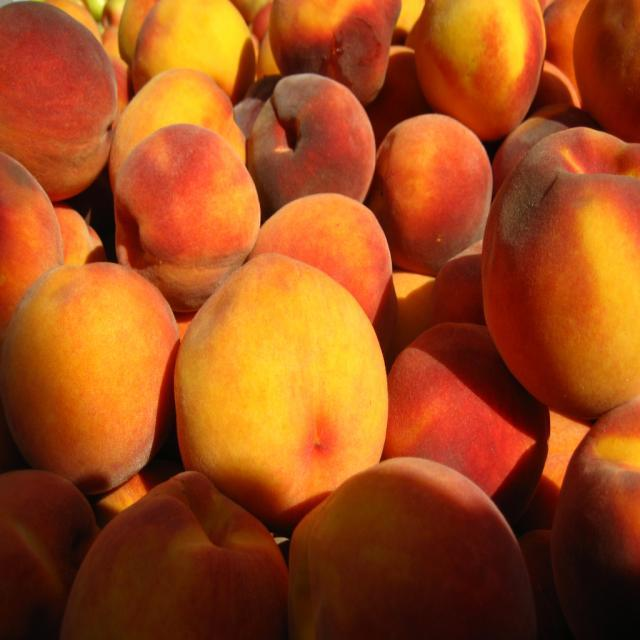Peach: (0, 0, 639, 639), (115, 119, 253, 287)
